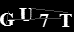7: (38, 13, 50, 27)
G: (1, 11, 15, 26)
T: (58, 14, 73, 27)
U: (18, 7, 34, 22)
